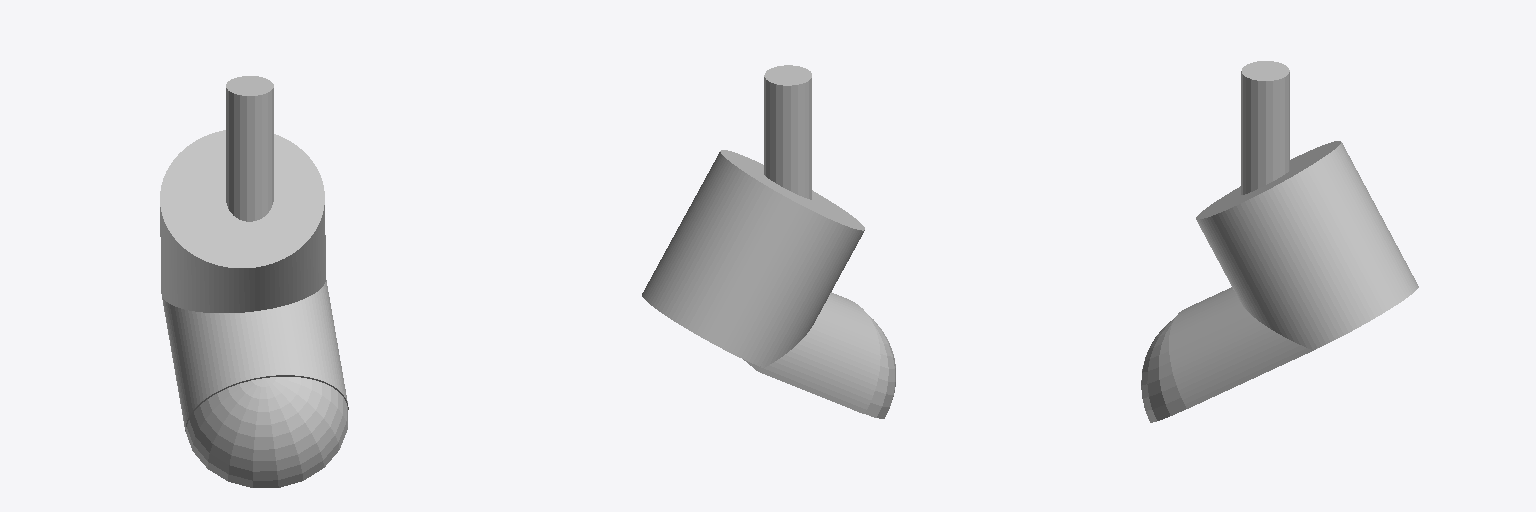
The model's file is left_shoe.obj.
3 views of the same model, side by side, from view 1: azimuth 30°, elevation 25°; view 2: azimuth 150°, elevation 25°; view 3: azimuth 270°, elevation 25° (orthographic).
Visible parts, largest first — view 1: leg_left_lower2, leg_left_lower; view 2: leg_left_lower2, leg_left_lower; view 3: leg_left_lower2, leg_left_lower.
Part boxes in pixels (bbox=[...]): leg_left_lower2: bbox=[160, 130, 348, 487]; leg_left_lower: bbox=[226, 76, 273, 221]; leg_left_lower2: bbox=[642, 150, 895, 418]; leg_left_lower: bbox=[764, 65, 811, 199]; leg_left_lower2: bbox=[1141, 141, 1418, 422]; leg_left_lower: bbox=[1241, 61, 1289, 194].
Size of the model in its own units: 1.87 by 3.57 by 2.51.